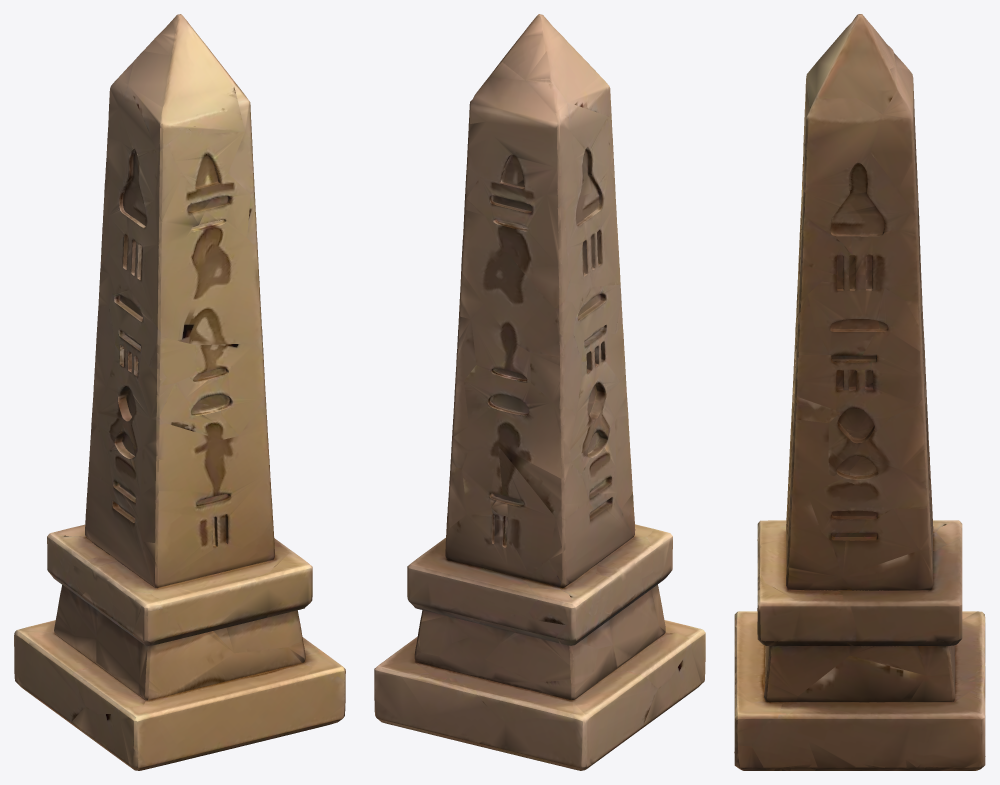
The model's file is obelisk_pbr.glb.
3 renders of one model, left to right at view 1: azimuth 30°, elevation 25°; view 2: azimuth 150°, elevation 25°; view 3: azimuth 270°, elevation 25°, orthographic. The views are drawn at different scales.
Visible parts, largest first — view 1: model.009; view 2: model.009; view 3: model.009.
Part boxes in pixels (bbox=[...]): model.009: bbox=[14, 14, 345, 770]; model.009: bbox=[374, 14, 705, 770]; model.009: bbox=[734, 14, 985, 770].
Size of the model in its own units: 0.5616 by 1.74 by 0.5614.
Materials: 1 (1 with a texture image).
